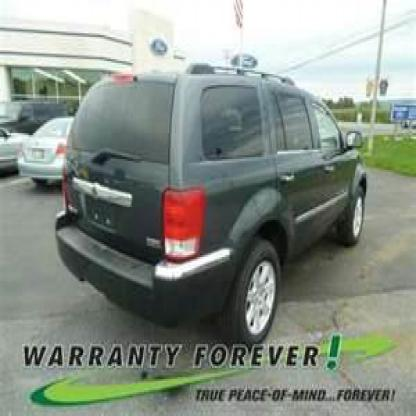Vehicle: (47, 66, 369, 336)
